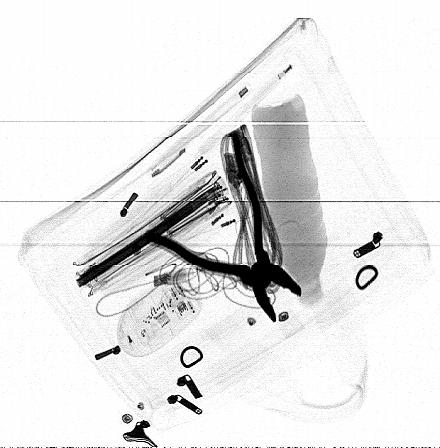Pliers: (143, 130, 304, 325)
